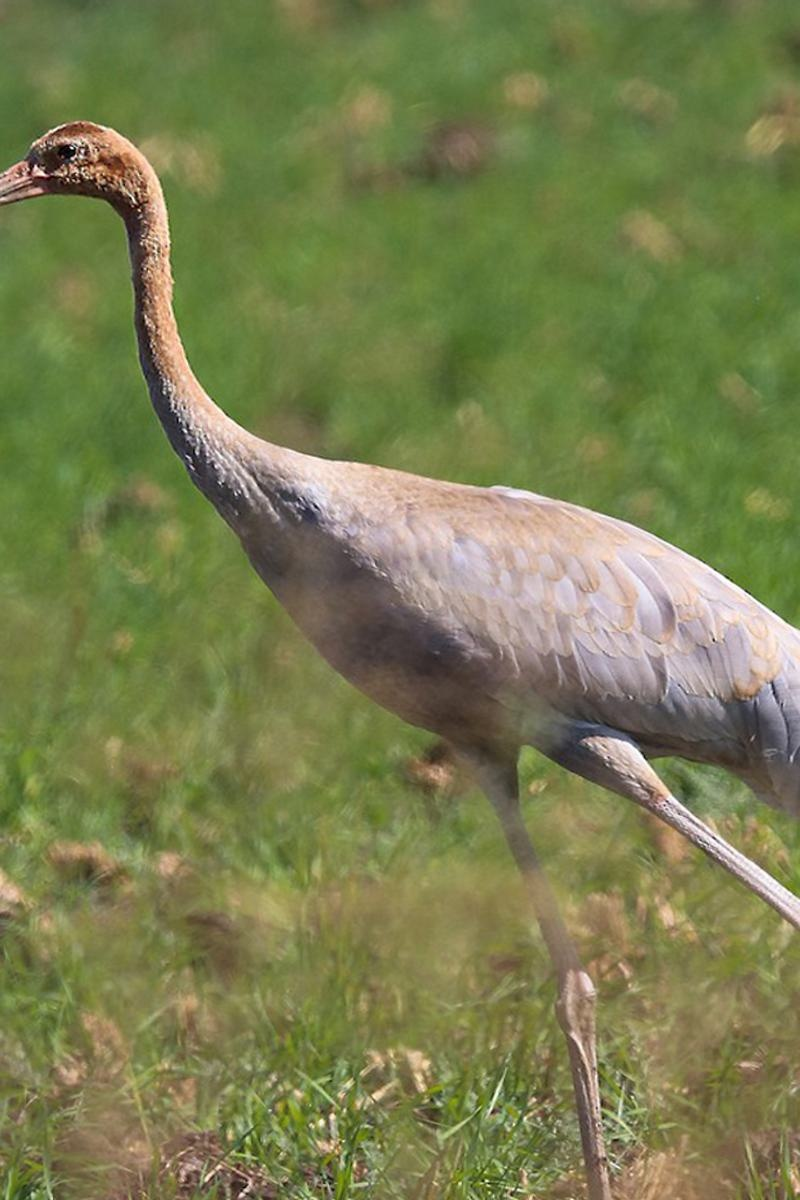crane: (9, 102, 800, 1200)
